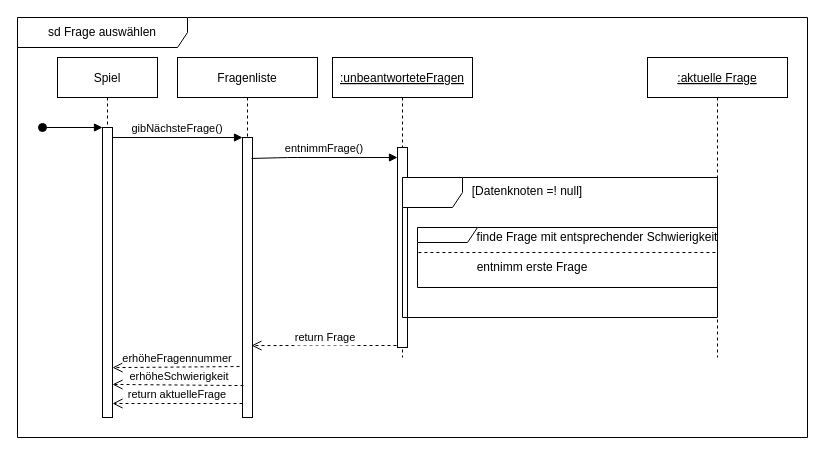
Image size: 825x455. Some labels were removed from this diagram. The shapes that lost their labels are listed below. From the top down, each one's box as (x1, y1, x2, y2) in pixels, then its label:
(402, 176, 718, 318): loop
(416, 226, 718, 288): alt
